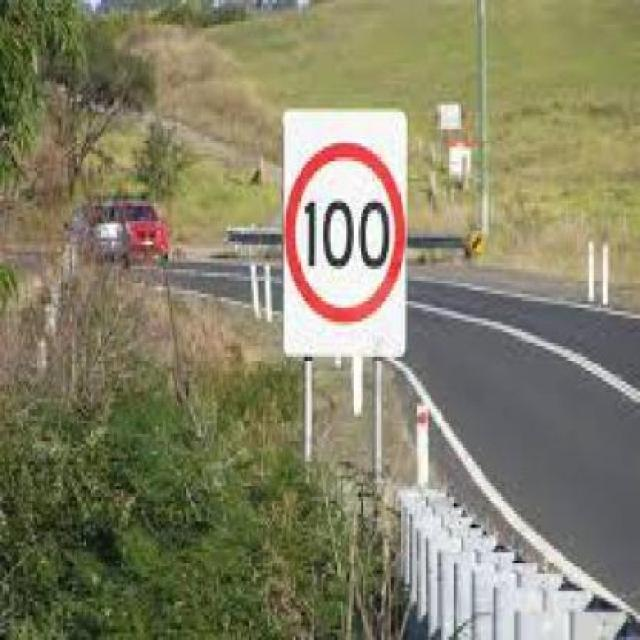forb_speed_over_100: (289, 148, 406, 319)
